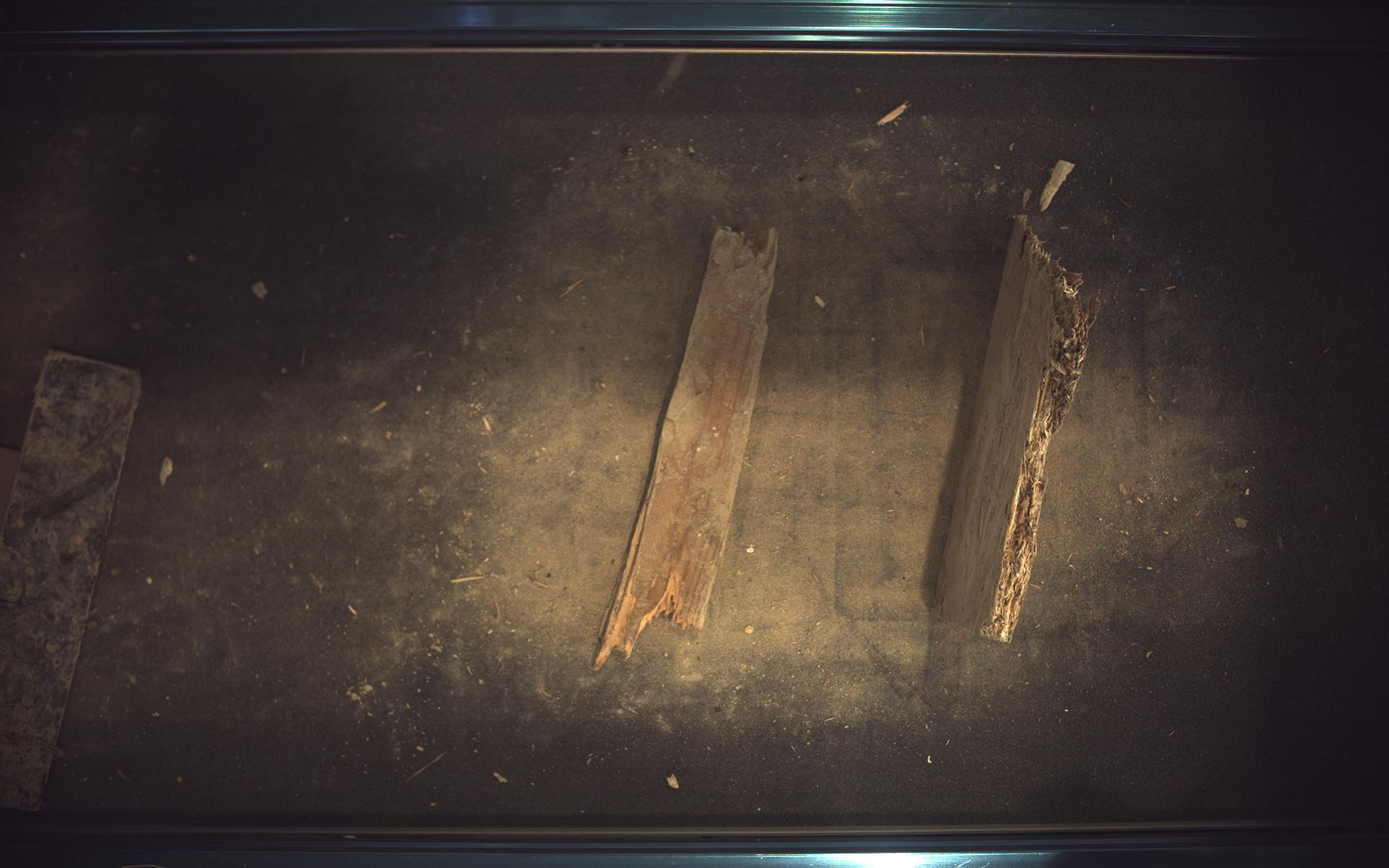wood: (595, 227, 778, 671), (935, 214, 1103, 643)
